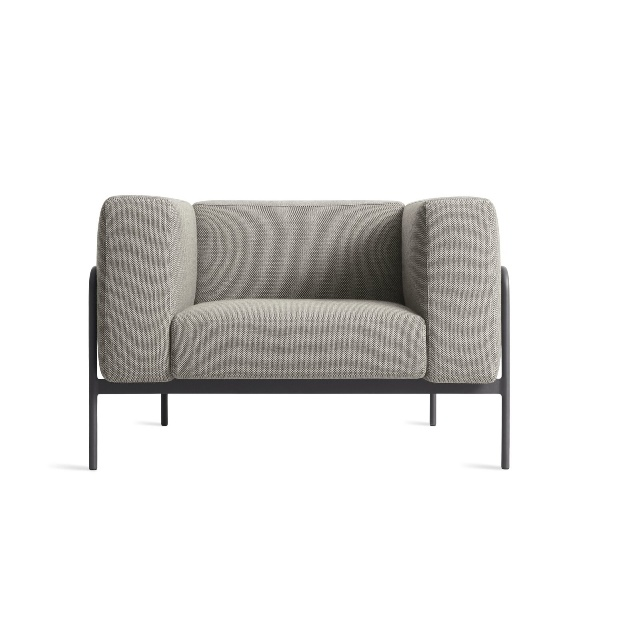obstacle: (90, 196, 509, 468)
